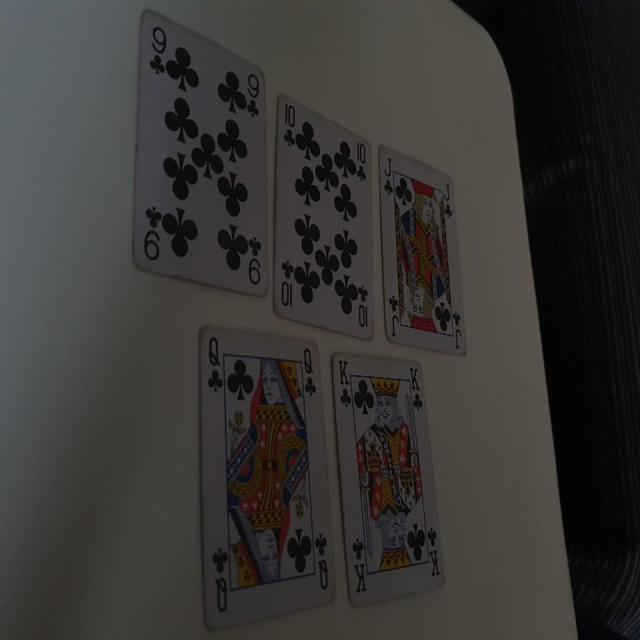10 Trefoils: (274, 92, 378, 338)
9 Trefoils: (130, 8, 272, 295)
J Trefoils: (376, 145, 469, 361)
K Trefoils: (330, 353, 447, 607)
Q Trefoils: (198, 326, 337, 630)
